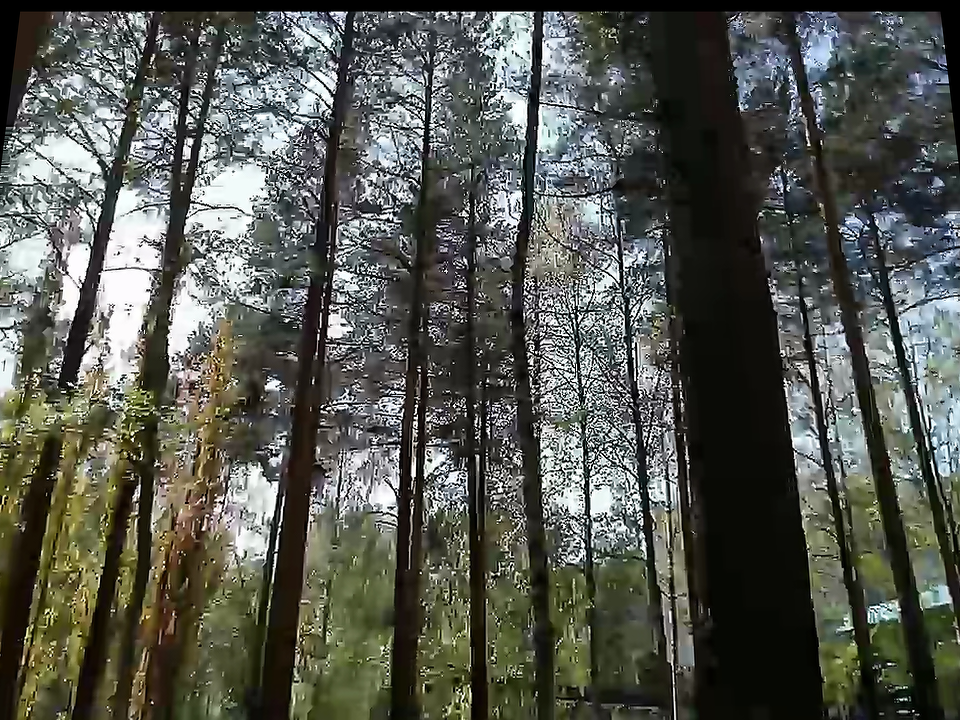branch: (224, 287, 285, 323), (545, 92, 615, 123), (196, 199, 253, 221), (545, 186, 608, 203), (108, 259, 153, 278), (363, 66, 413, 82), (369, 114, 405, 133), (593, 549, 638, 562)
trunk: (644, 145, 836, 707), (377, 482, 438, 692), (266, 488, 324, 684), (516, 484, 570, 689), (457, 481, 508, 690)
